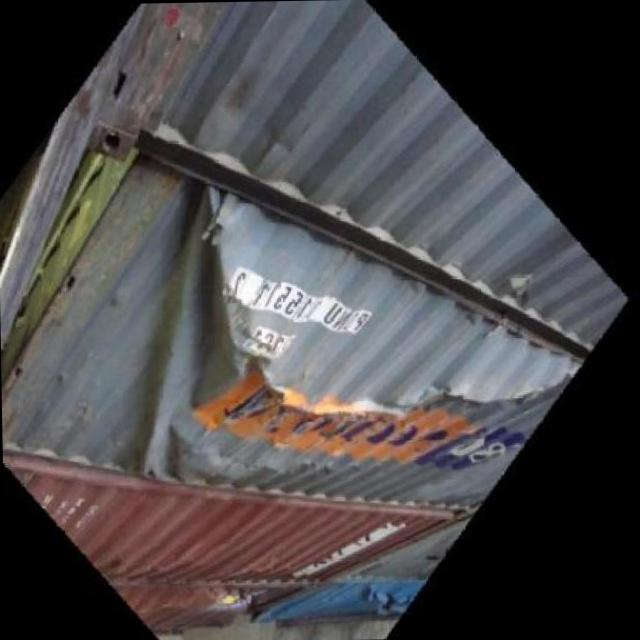Deframe_or_Dent: (130, 179, 284, 496), (256, 366, 576, 474)
